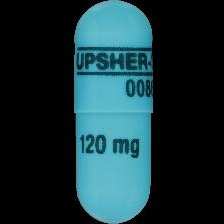0245-0086: (0, 0, 224, 224)
